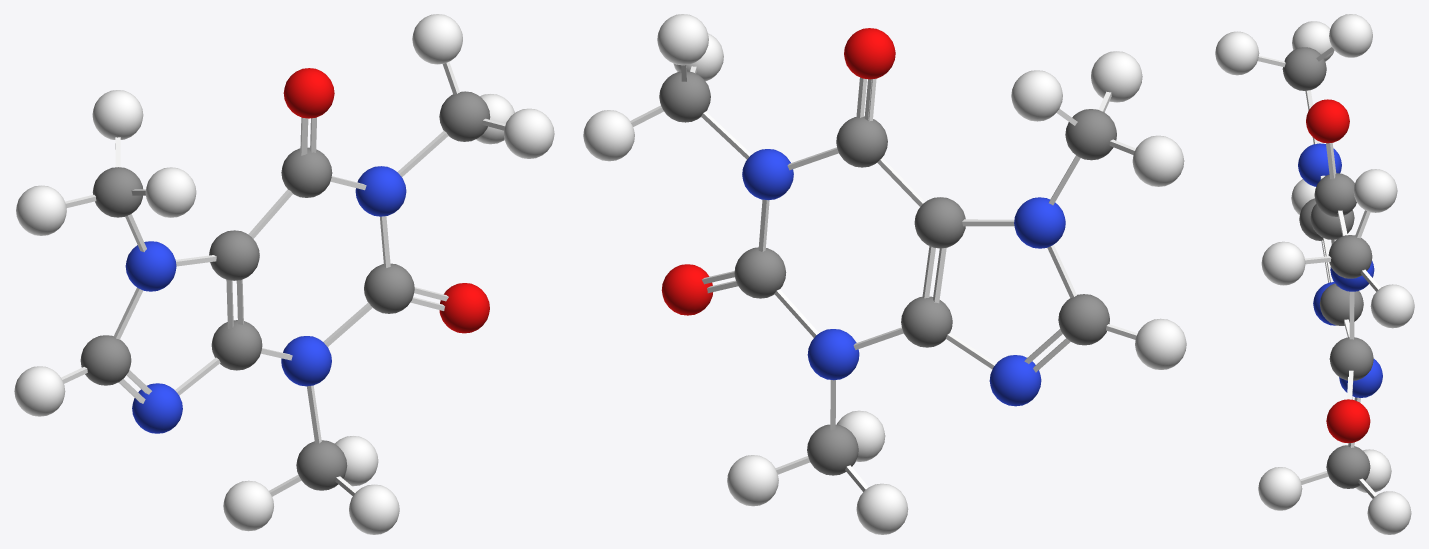
File: Caffeine_BOcorr.glb
The picture shows the model from 3 angles, left to right: view 1: azimuth 30°, elevation 25°; view 2: azimuth 150°, elevation 25°; view 3: azimuth 270°, elevation 25°; orthographic projection. The views are drawn at different scales.
Visible parts, largest first — view 1: nodes[20], nodes[19], nodes[17], nodes[14], nodes[11], nodes[22], nodes[16], nodes[23], nodes[18], nodes[1], nodes[7], nodes[4] (+12 smaller); view 2: nodes[18], nodes[23], nodes[11], nodes[16], nodes[20], nodes[15], nodes[14], nodes[21], nodes[4], nodes[6], nodes[7], nodes[0] (+12 smaller); view 3: nodes[15], nodes[18], nodes[19], nodes[23], nodes[10], nodes[11], nodes[17], nodes[21], nodes[22], nodes[12], nodes[9], nodes[13] (+13 smaller).
Part boxes in pixels (<box>): nodes[20]: <box>16,185,66,235</box>; nodes[19]: <box>145,167,196,217</box>; nodes[17]: <box>349,484,399,534</box>; nodes[14]: <box>14,366,65,416</box>; nodes[11]: <box>283,68,334,118</box>; nodes[22]: <box>503,108,554,158</box>; nodes[16]: <box>223,480,273,531</box>; nodes[23]: <box>412,14,462,64</box>; nodes[18]: <box>92,90,143,139</box>; nodes[1]: <box>364,263,414,313</box>; nodes[7]: <box>80,335,131,385</box>; nodes[4]: <box>209,230,259,280</box>; nodes[18]: <box>1011,70,1062,121</box>; nodes[23]: <box>657,14,708,65</box>; nodes[11]: <box>844,28,895,79</box>; nodes[16]: <box>856,483,908,534</box>; nodes[20]: <box>1132,135,1184,186</box>; nodes[15]: <box>727,455,778,506</box>; nodes[14]: <box>1135,318,1186,369</box>; nodes[21]: <box>583,110,634,161</box>; nodes[4]: <box>914,197,965,248</box>; nodes[6]: <box>1014,197,1065,248</box>; nodes[7]: <box>1058,294,1109,345</box>; nodes[0]: <box>742,149,793,200</box>; nodes[15]: <box>1367,491,1411,534</box>; nodes[18]: <box>1329,14,1372,57</box>; nodes[19]: <box>1215,31,1259,75</box>; nodes[23]: <box>1353,169,1397,212</box>; nodes[10]: <box>1326,399,1370,443</box>; nodes[11]: <box>1306,99,1349,143</box>; nodes[17]: <box>1258,467,1302,510</box>; nodes[21]: <box>1370,284,1414,328</box>; nodes[22]: <box>1261,241,1305,285</box>; nodes[12]: <box>1282,47,1326,90</box>; nodes[9]: <box>1326,445,1370,488</box>; nodes[13]: <box>1328,235,1372,278</box>.
Bounding box in the file's own units: 0.4529 × 0.3837 × 0.1671.
